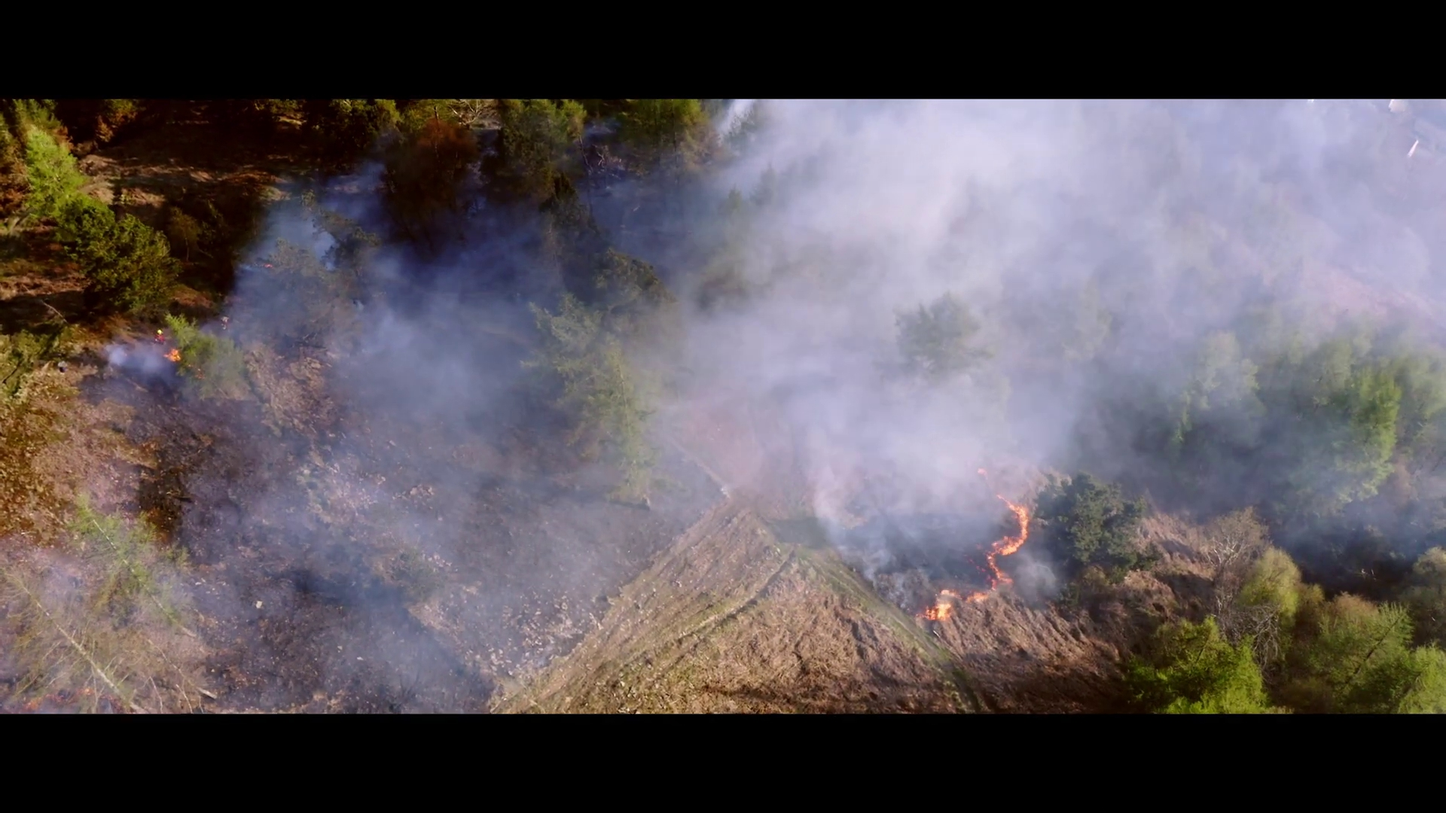forest_fire: (920, 495, 1030, 622), (162, 348, 187, 371)
